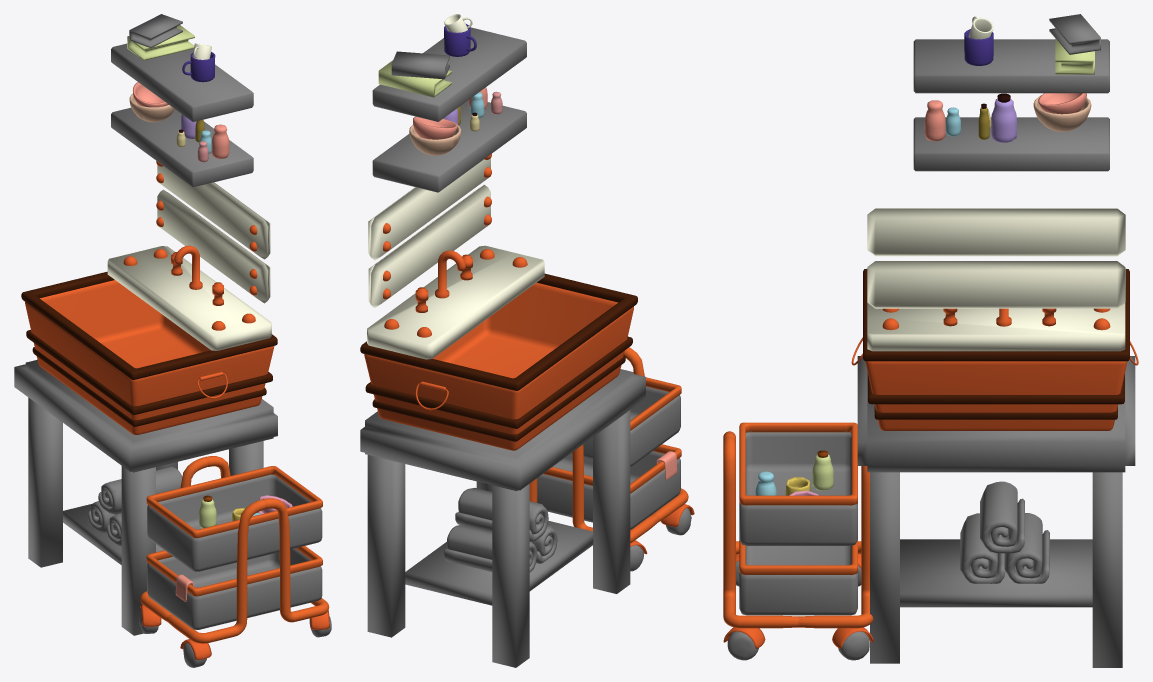
File: sink.fbx
3 views of the same model, side by side, from view 1: azimuth 30°, elevation 25°; view 2: azimuth 150°, elevation 25°; view 3: azimuth 270°, elevation 25° (orthographic). The views are drawn at different scales.
Parts seen in each view (by area): view 1: Box035, Box041去, Box033, Box038, Box077, Box037, Box036, __009, Box034, __004, Box075, __002 (+11 smaller); view 2: Box035, Box041去, Box038, Box036, Box037, Box034, __004, Box077, __009, Box075, __005, Box033 (+10 smaller); view 3: Box035, Box041去, Box075, Box034, Box038, Box033, Box036, Box037, Box077, __004, __002, __008 (+17 smaller).
Boxes of the visible parts, <box> form: Box035: <box>14,359,277,635</box>; Box041去: <box>25,280,274,434</box>; Box033: <box>147,474,322,571</box>; Box038: <box>107,246,271,350</box>; Box077: <box>147,548,322,629</box>; Box037: <box>111,43,253,121</box>; Box036: <box>111,107,253,187</box>; __009: <box>32,347,266,643</box>; Box034: <box>157,189,270,303</box>; __004: <box>21,271,277,379</box>; Box075: <box>157,165,270,259</box>; __002: <box>146,466,322,538</box>; Box035: <box>360,369,645,667</box>; Box041去: <box>364,282,633,450</box>; Box038: <box>367,245,544,359</box>; Box036: <box>372,100,526,192</box>; Box037: <box>372,27,526,121</box>; Box034: <box>368,184,490,307</box>; __004: <box>360,273,637,390</box>; Box077: <box>537,451,680,529</box>; __009: <box>372,347,688,542</box>; Box075: <box>368,158,490,260</box>; __005: <box>365,250,632,428</box>; Box033: <box>570,386,680,466</box>; Box035: <box>857,356,1135,667</box>; Box041去: <box>865,361,1127,430</box>; Box075: <box>867,208,1125,256</box>; Box034: <box>867,261,1125,308</box>; Box038: <box>867,303,1125,351</box>; Box033: <box>739,431,857,545</box>; Box036: <box>913,117,1109,171</box>; Box037: <box>913,39,1109,93</box>; Box077: <box>739,545,857,615</box>; __004: <box>863,269,1129,361</box>; __002: <box>739,422,857,505</box>; __008: <box>723,436,799,628</box>.
Bounding box in the file's own units: 22.61 × 74.39 × 44.1.
